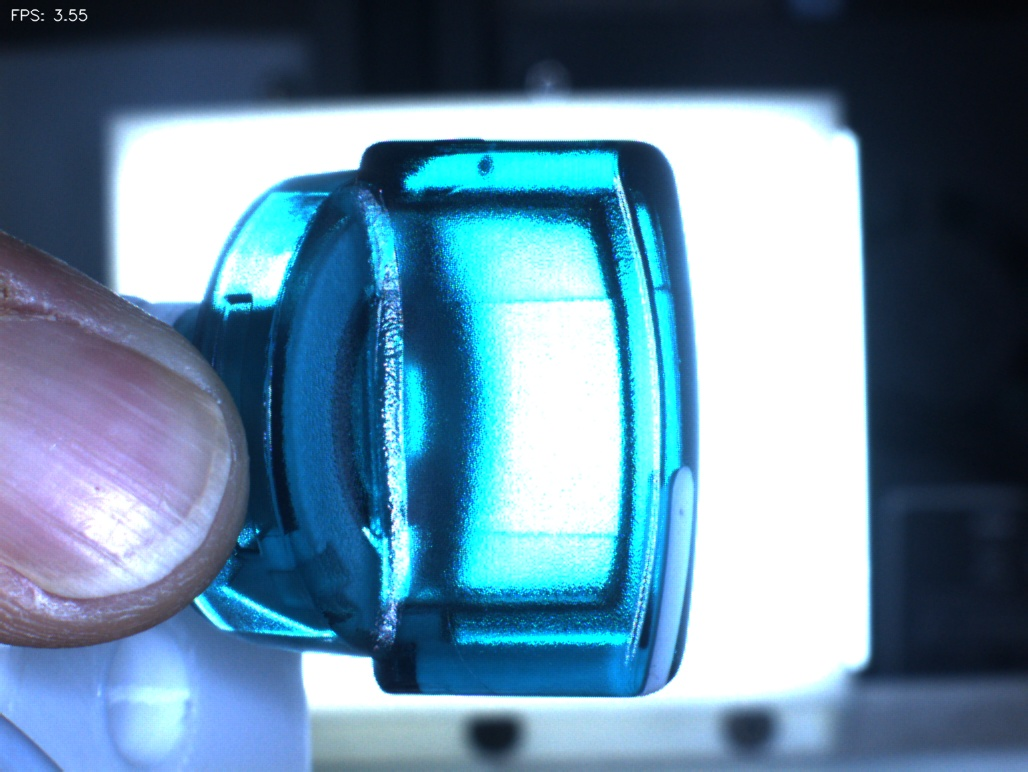Bulle: (441, 117, 517, 208)
